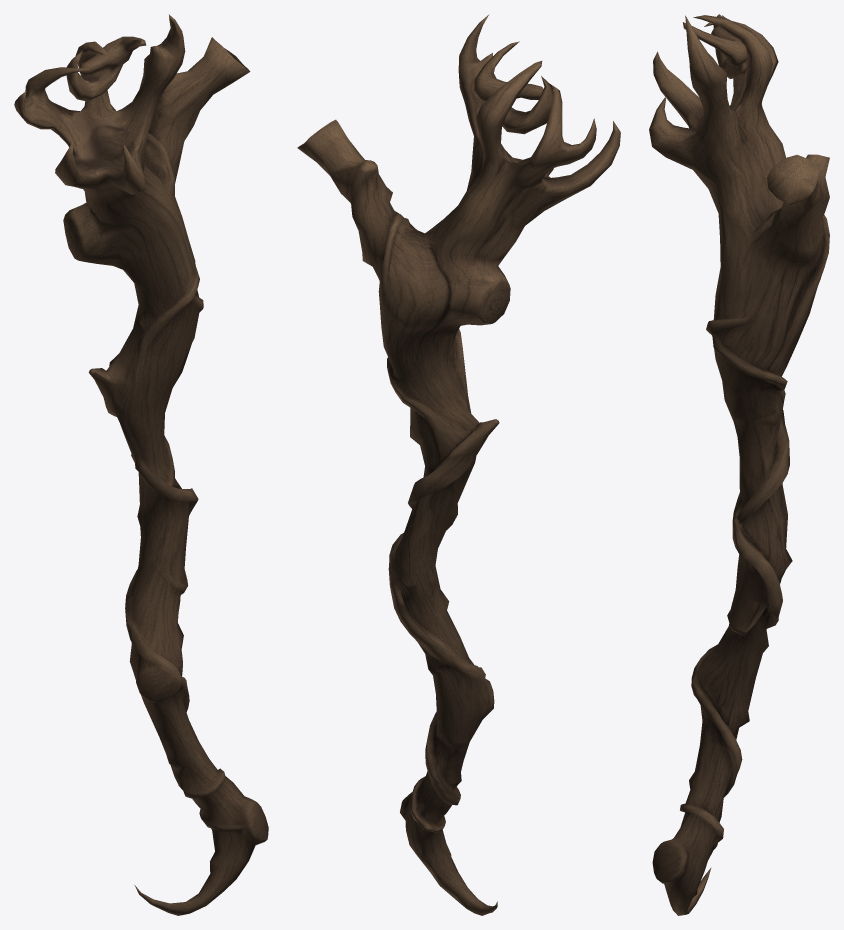
File: oak_staff.glb
3 views of the same model, side by side, from view 1: azimuth 30°, elevation 25°; view 2: azimuth 150°, elevation 25°; view 3: azimuth 270°, elevation 25° (orthographic).
Size of the model in its own units: 0.2871 by 0.9526 by 0.1753.
Materials: 1 (1 with a texture image).
